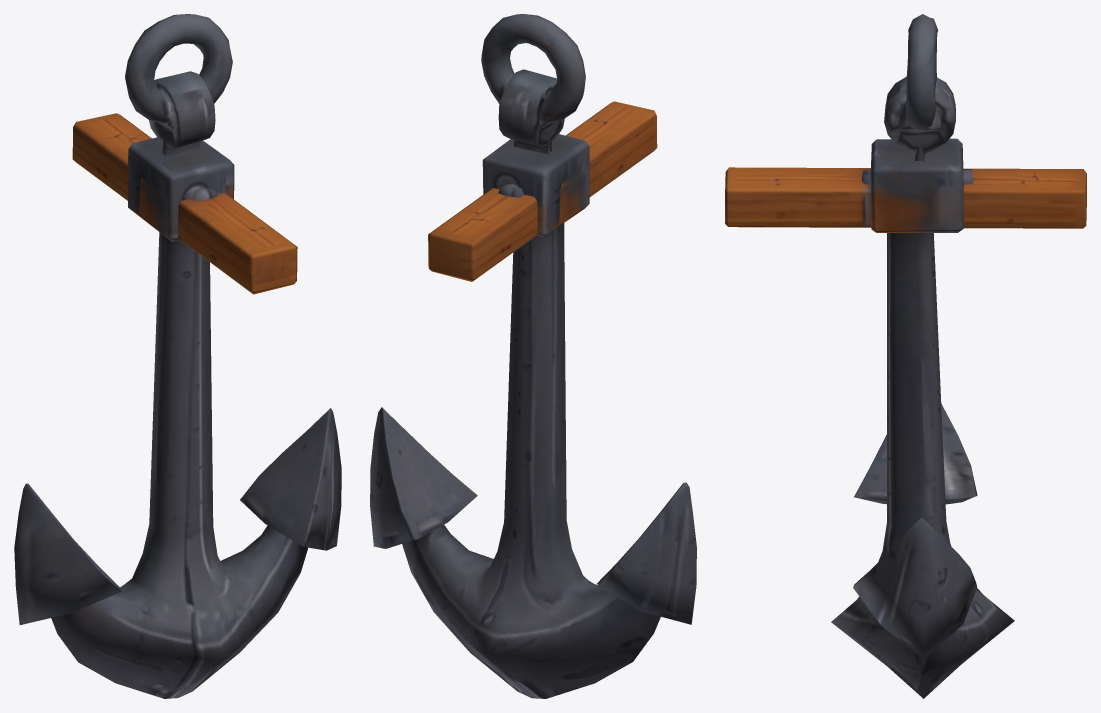
The model's file is anchor.glb.
The picture shows the model from 3 angles, left to right: view 1: azimuth 30°, elevation 25°; view 2: azimuth 150°, elevation 25°; view 3: azimuth 270°, elevation 25°; orthographic projection.
Parts seen in each view (by area): view 1: anchor, stock; view 2: anchor, stock; view 3: anchor, stock.
Boxes of the visible parts, x1=… form: anchor: x1=14, y1=14, x2=341, y2=698; stock: x1=72, y1=113, x2=297, y2=294; anchor: x1=370, y1=14, x2=696, y2=698; stock: x1=428, y1=101, x2=657, y2=281; anchor: x1=831, y1=14, x2=1014, y2=698; stock: x1=725, y1=167, x2=1086, y2=228.
Size of the model in its own units: 0.9022 by 1.8 by 0.8743.
1 material, 1 textured.
